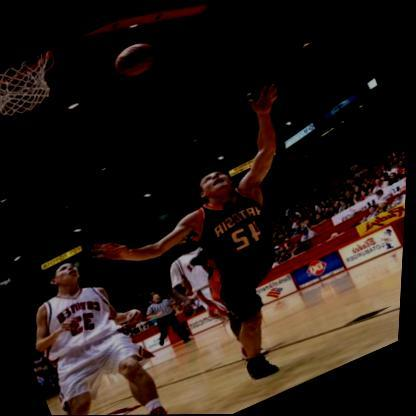basketball: (110, 35, 166, 83)
rim: (0, 47, 60, 97)
